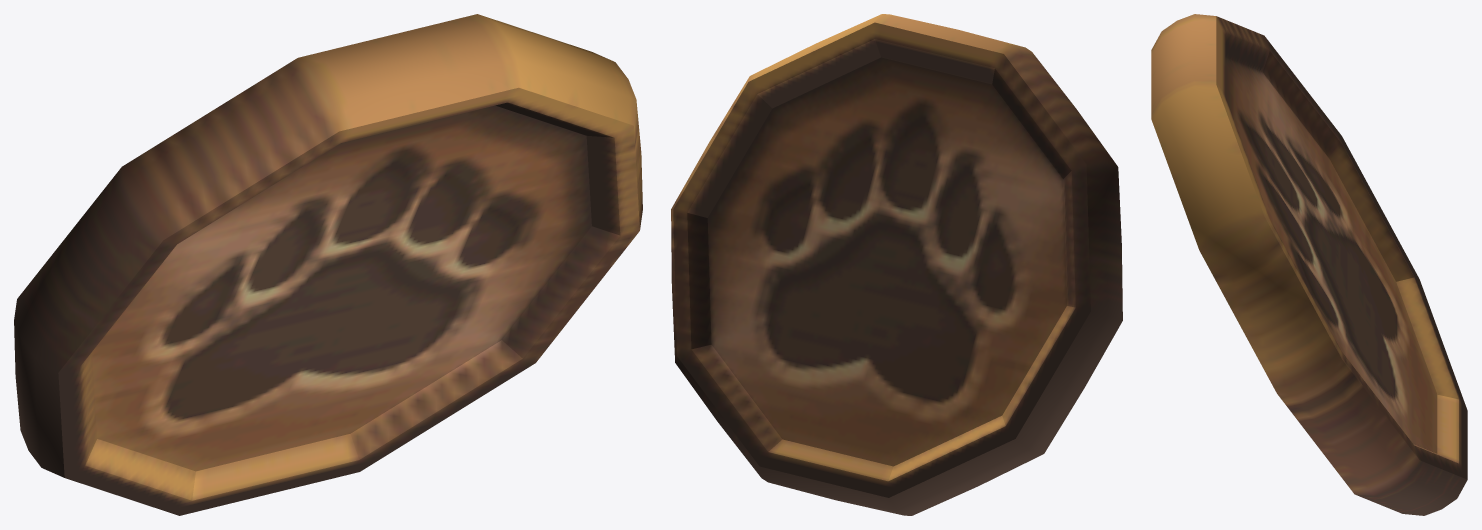
Rendered from OSCopy.ico.obj.
3 renders of one model, left to right at view 1: azimuth 30°, elevation 25°; view 2: azimuth 150°, elevation 25°; view 3: azimuth 270°, elevation 25°, orthographic. The views are drawn at different scales.
Size of the model in its own units: 4.75 by 4.06 by 2.7.
1 material, 1 textured.
